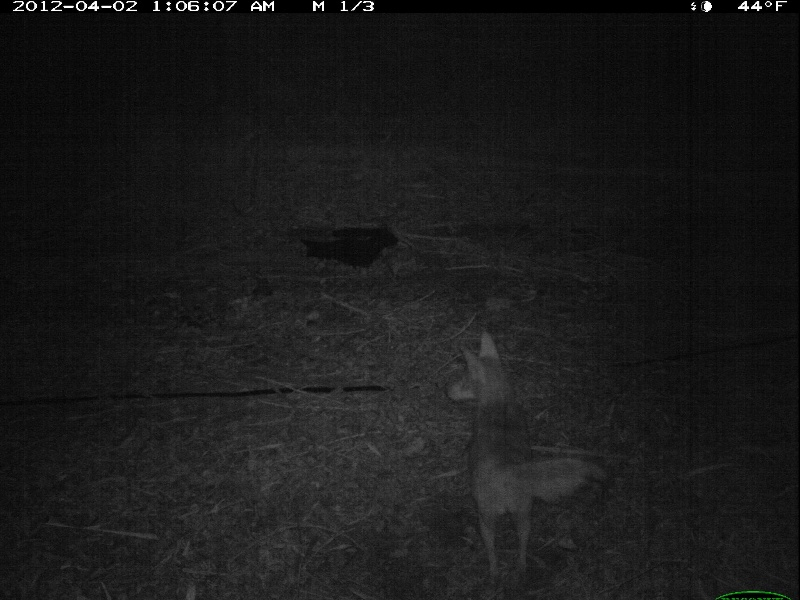coyote: (440, 334, 586, 587)
